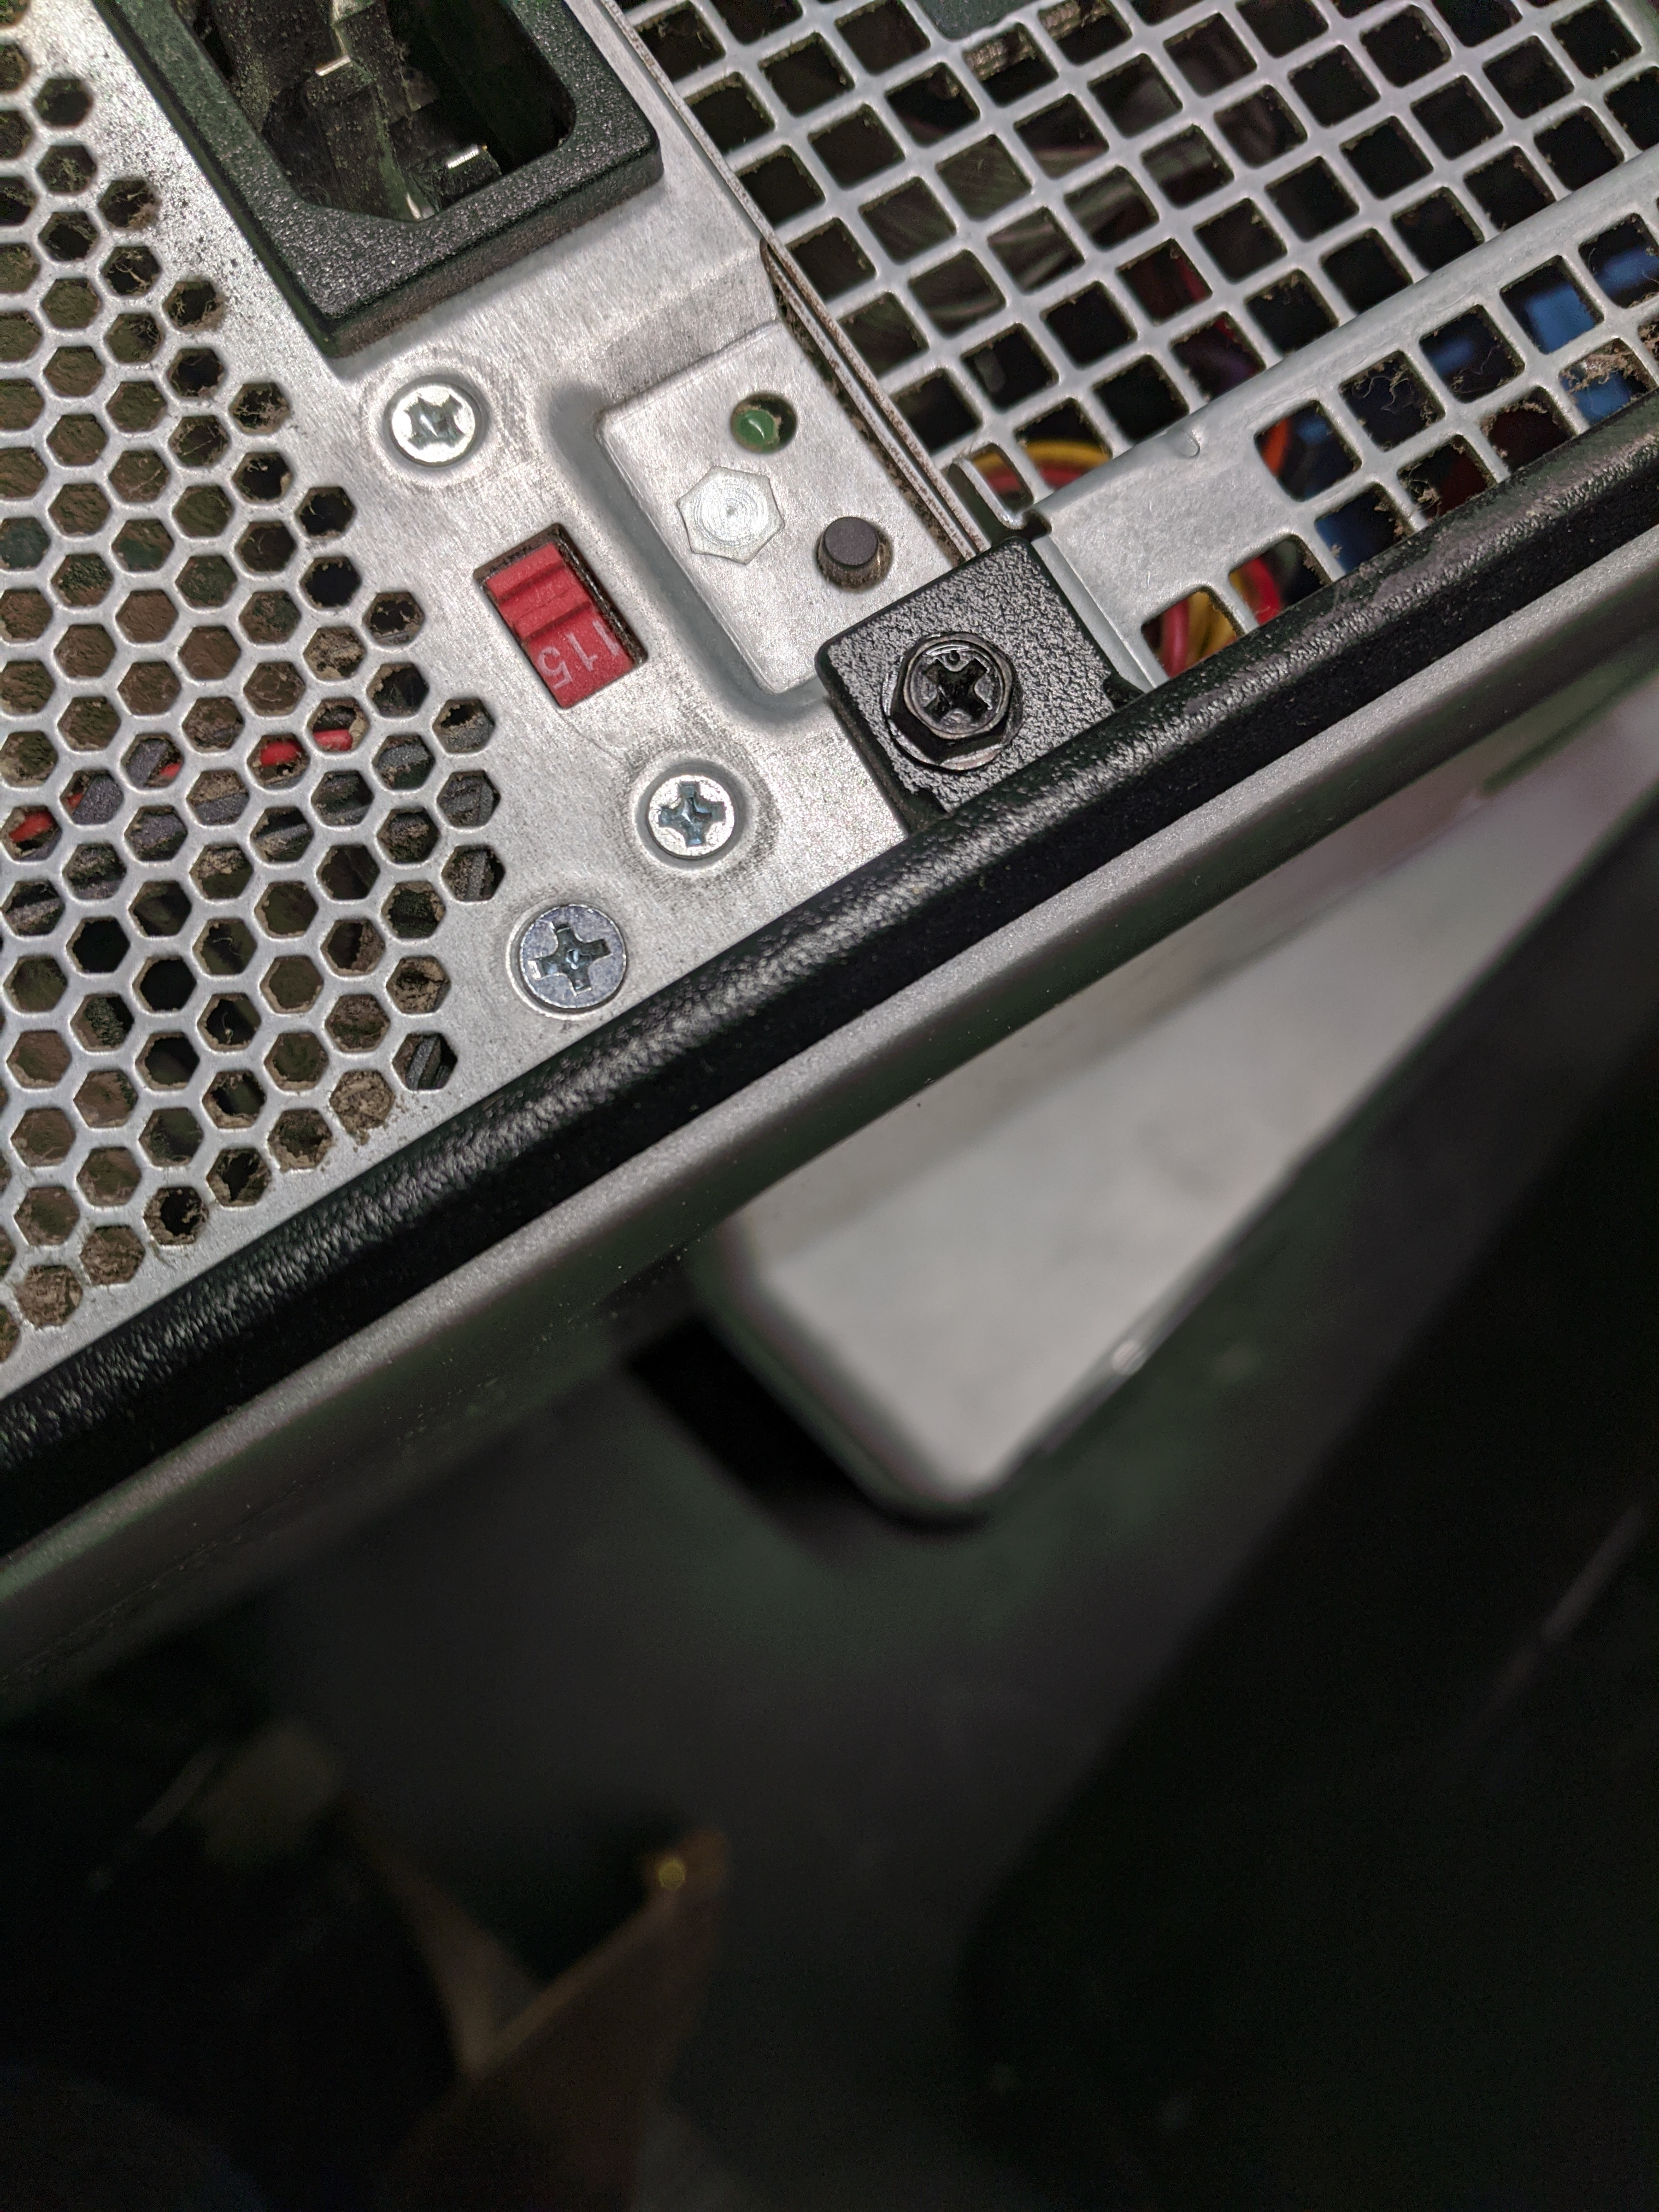cross_recessed_screw: (502, 885, 641, 1026), (896, 618, 1016, 745), (627, 737, 748, 862), (373, 352, 488, 465)
